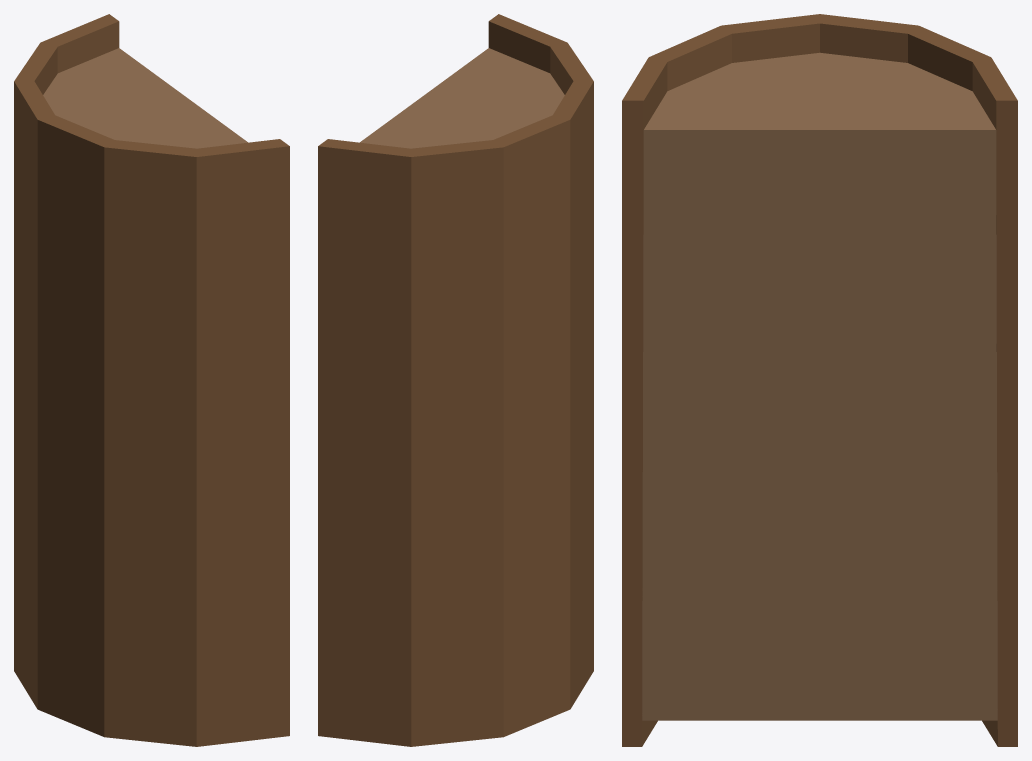
Rendered from wood.01.fbx.
The picture shows the model from 3 angles, left to right: view 1: azimuth 30°, elevation 25°; view 2: azimuth 150°, elevation 25°; view 3: azimuth 270°, elevation 25°; orthographic projection. The views are drawn at different scales.
Visible parts, largest first — view 1: wood.01; view 2: wood.01; view 3: wood.01.
Boxes of the visible parts, x1,y1,x2,y2 form: wood.01: (14,14,289,746); wood.01: (318,14,593,746); wood.01: (622,14,1017,746).
Size of the model in its own units: 57.5 by 200 by 111.
